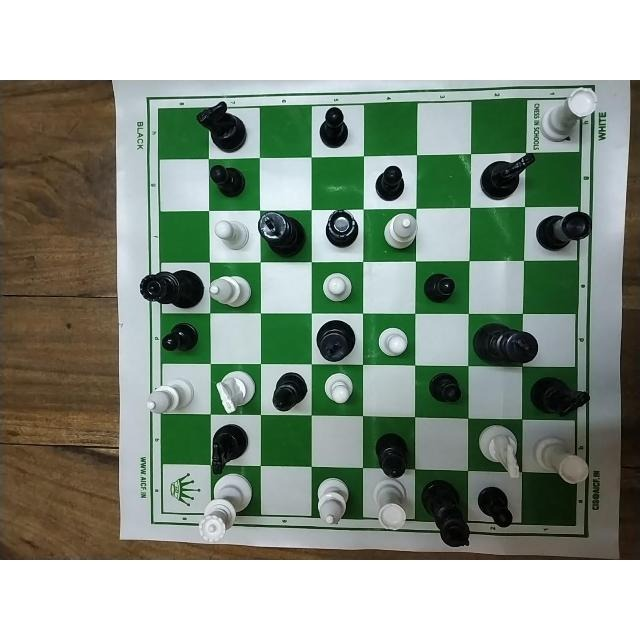black-bishop: (372, 429, 410, 479), (271, 369, 307, 410)
black-king: (420, 477, 470, 547), (472, 321, 538, 364), (255, 210, 307, 258), (316, 319, 356, 361)
black-knight: (195, 102, 249, 154), (479, 152, 535, 201), (528, 376, 592, 417), (211, 423, 249, 476)
black-pawn: (477, 482, 515, 528), (318, 105, 350, 148), (207, 165, 246, 199), (161, 319, 198, 353), (427, 370, 463, 404), (374, 164, 407, 200), (422, 272, 456, 303)
black-queen: (137, 269, 203, 310)
black-rook: (535, 211, 592, 253), (324, 208, 359, 248)
white-bishop: (146, 377, 194, 413), (316, 475, 349, 525), (381, 212, 417, 251), (210, 273, 252, 306)
white-knight: (474, 424, 523, 480), (215, 367, 257, 413)
white-pawn: (212, 218, 249, 252), (318, 269, 352, 303), (375, 327, 409, 358), (322, 371, 352, 406)
white-queen: (198, 475, 254, 541)
white-rook: (541, 86, 599, 142), (530, 431, 590, 485), (370, 480, 409, 532)
